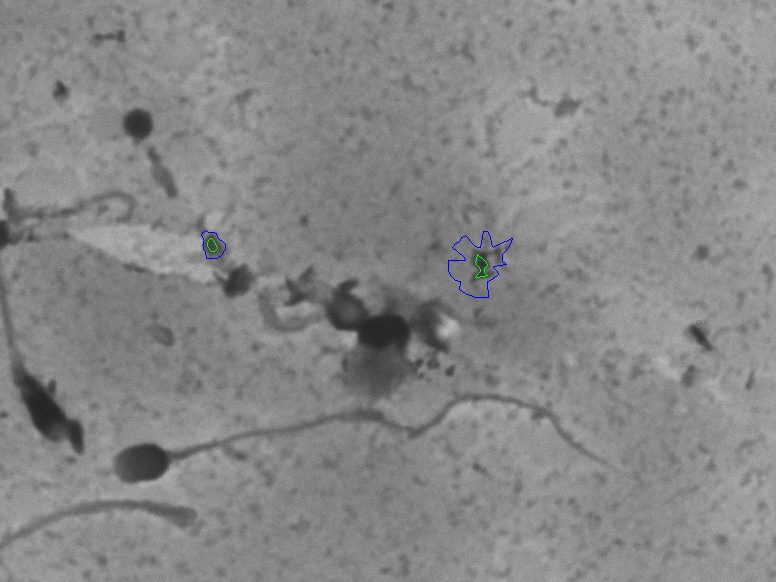Abnormal: (6, 301, 91, 466)
Normal: (102, 382, 631, 498)
